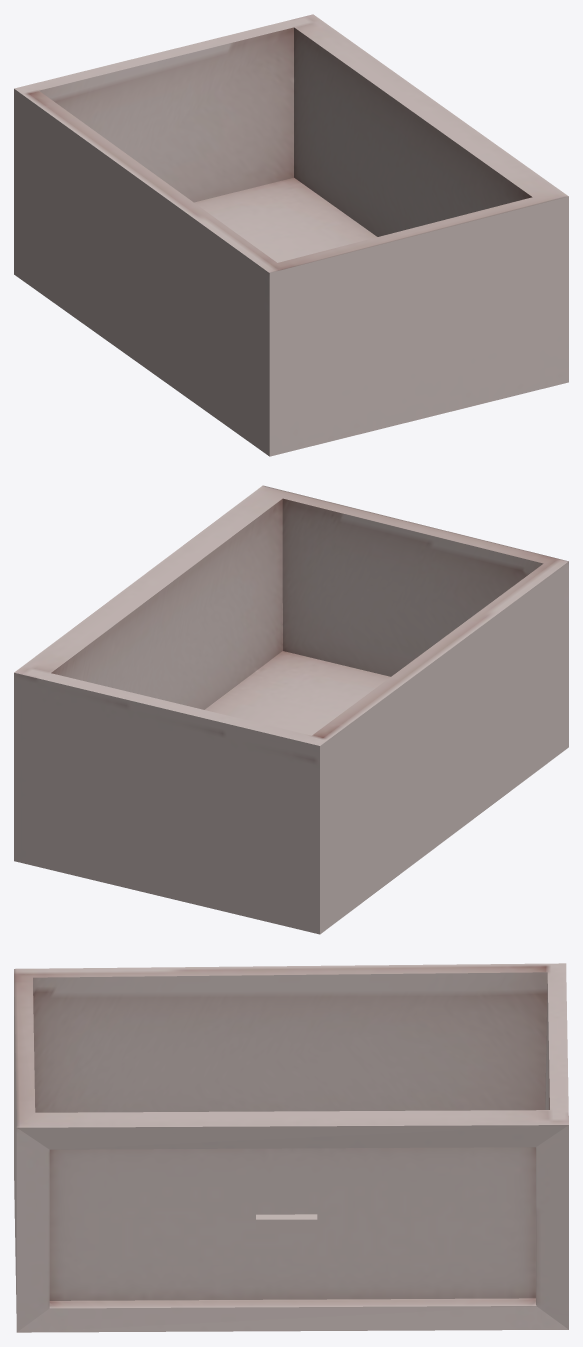
File: drawer4.glb
The picture shows the model from 3 angles, top to bottom: view 1: azimuth 30°, elevation 25°; view 2: azimuth 150°, elevation 25°; view 3: azimuth 270°, elevation 25°; orthographic projection. The views are drawn at different scales.
Parts seen in each view (by area): view 1: frl_apartment_lower_shelf_01_part_08; view 2: frl_apartment_lower_shelf_01_part_08; view 3: frl_apartment_lower_shelf_01_part_08.
Boxes of the visible parts, box(x1,y1,x2,y2) form: frl_apartment_lower_shelf_01_part_08: box(14, 14, 568, 456); frl_apartment_lower_shelf_01_part_08: box(14, 485, 568, 934); frl_apartment_lower_shelf_01_part_08: box(14, 963, 568, 1332).
Size of the model in its own units: 0.6209 by 0.3609 by 0.8862.
Materials: 1 (1 with a texture image).
